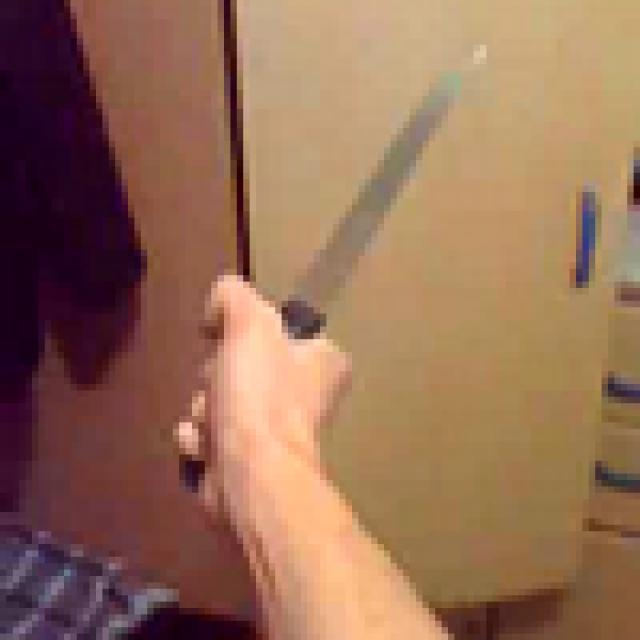Weapons: (278, 42, 491, 340)
